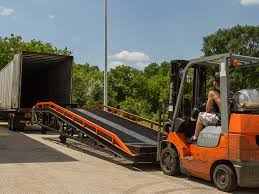Pallet Jack: (142, 52, 259, 192)
Yard Ramp: (31, 101, 159, 171)
